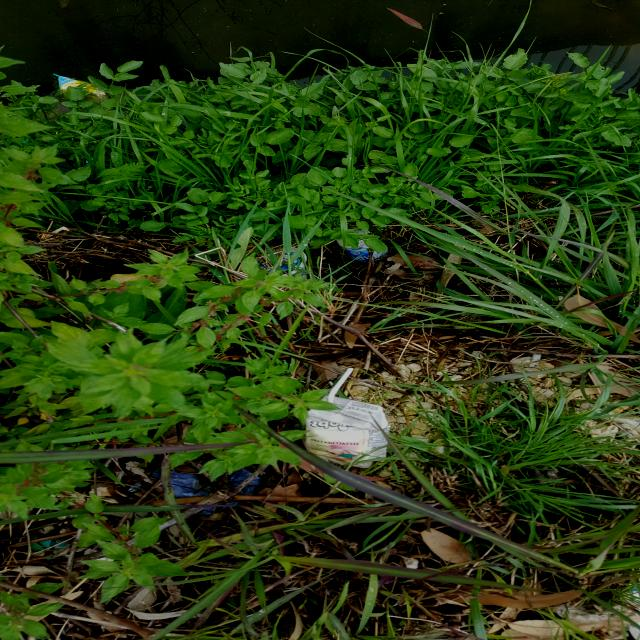Drink carton: (302, 394, 391, 468)
Other plastic: (52, 74, 110, 112)
Other plastic container: (336, 228, 390, 262)
Plastic film: (150, 467, 263, 514)
Plastic straw: (327, 367, 354, 402)
